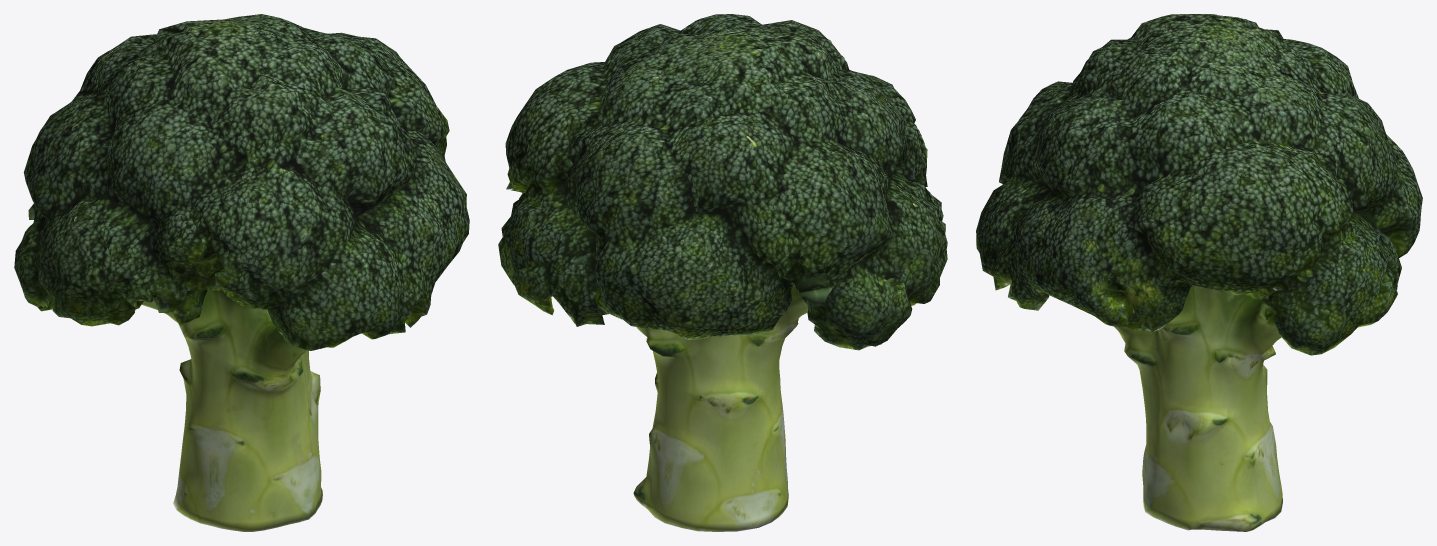
Rendered from broccoli.glb.
3 views of the same model, side by side, from view 1: azimuth 30°, elevation 25°; view 2: azimuth 150°, elevation 25°; view 3: azimuth 270°, elevation 25° (orthographic). The views are drawn at different scales.
Parts seen in each view (by area): view 1: Object_2; view 2: Object_2; view 3: Object_2.
Boxes of the visible parts, x1,y1,x2,y2 form: Object_2: [14, 14, 469, 531]; Object_2: [498, 14, 947, 531]; Object_2: [976, 14, 1422, 531].
Size of the model in its own units: 5.16 by 5.96 by 5.19.
Materials: 1 (1 with a texture image).
